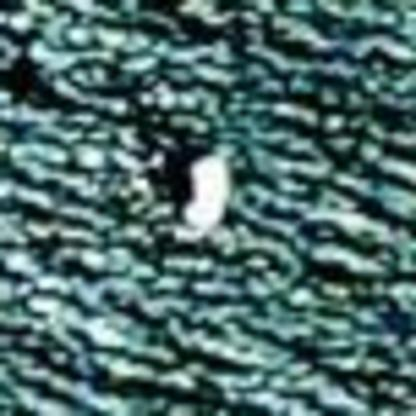ship: (168, 140, 237, 235)
